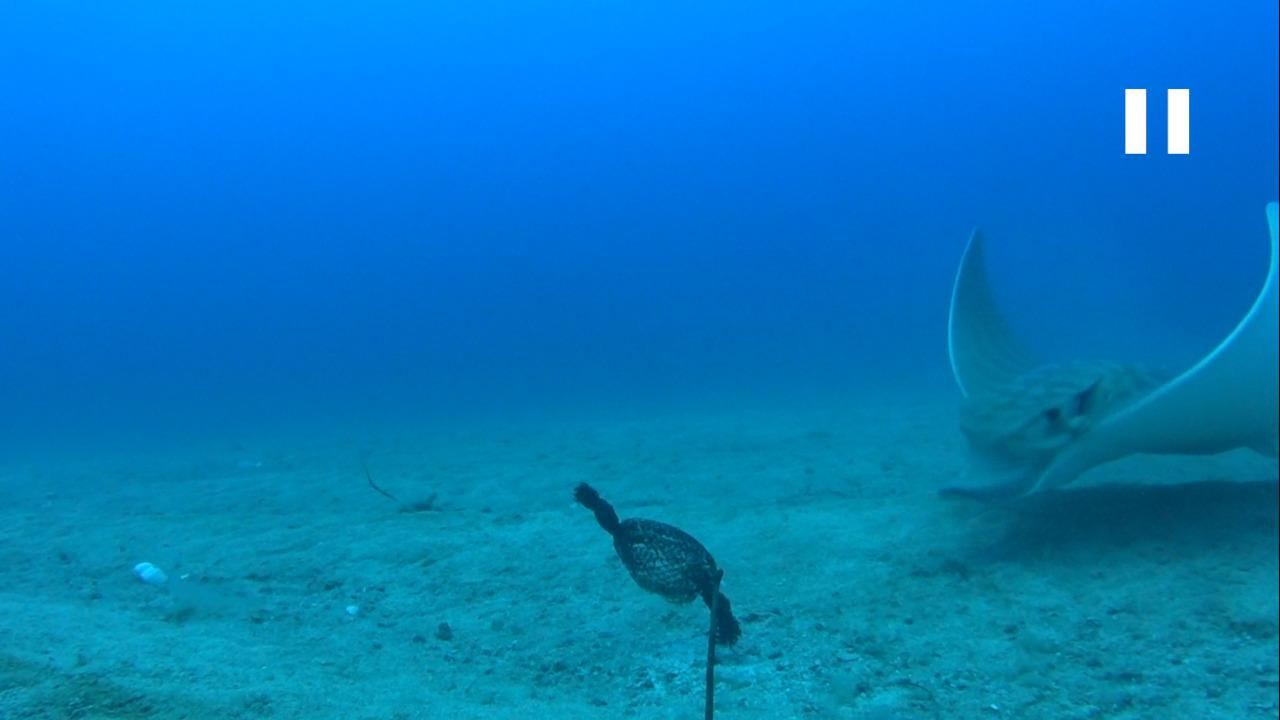myliobatis: (928, 194, 1279, 519)
